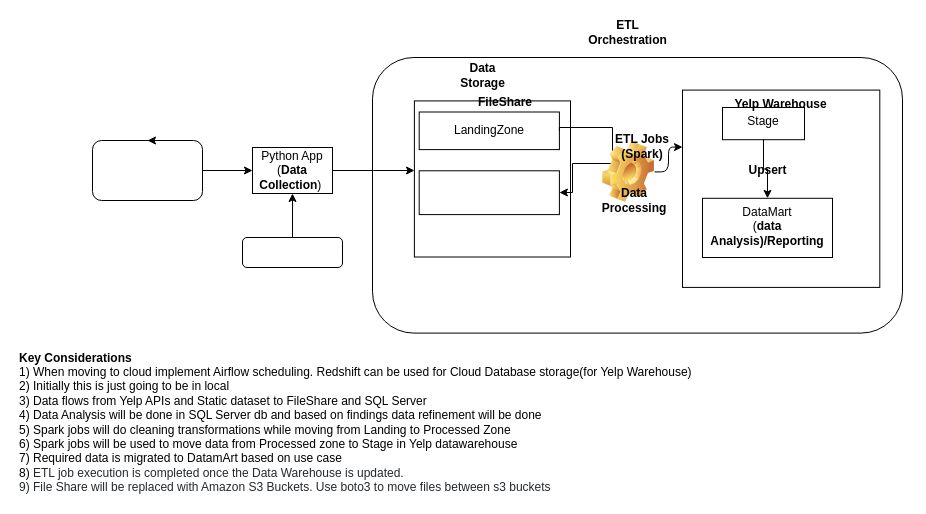
Image size: 926x514. Some labels were removed from this diagram. The shapes that lost their labels are listed below. From the top down, each one's centre as x and y in pixels, then its label:
At point (147, 170): "Yelp API".
At point (488, 192): "ProcessedZone".
At point (292, 252): "Yelp Static Dataset(later)".
